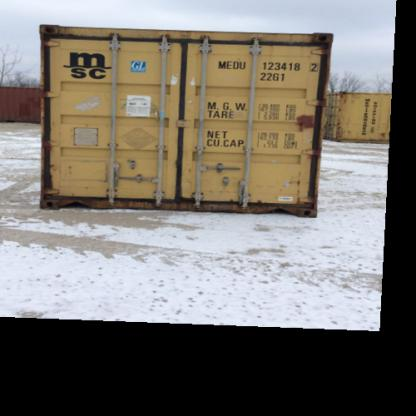Damage: (262, 29, 339, 66), (106, 194, 199, 218), (30, 164, 70, 212), (30, 23, 84, 56), (292, 175, 321, 211)
